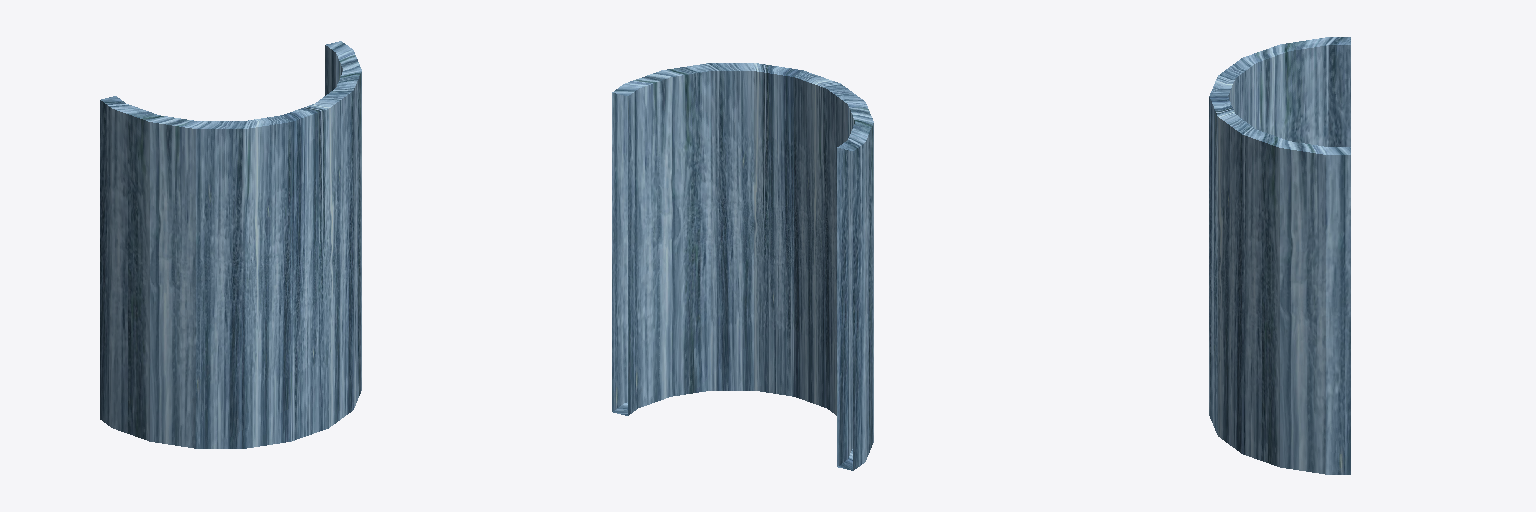
3 renders of one model, left to right at view 1: azimuth 30°, elevation 25°; view 2: azimuth 150°, elevation 25°; view 3: azimuth 270°, elevation 25°, orthographic.
Visible parts, largest first — view 1: Tube001; view 2: Tube001; view 3: Tube001.
Part boxes in pixels (x1,y1,x2,y2): Tube001: (100, 41, 361, 448); Tube001: (612, 63, 873, 470); Tube001: (1209, 37, 1350, 474).
Size of the model in its own units: 55.26 by 70 by 28.06.
Materials: 1 (1 with a texture image).